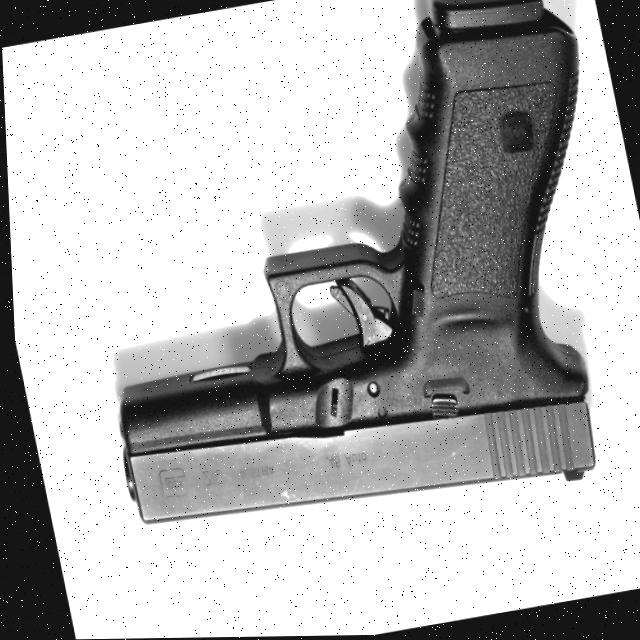pistol: (35, 0, 640, 559)
